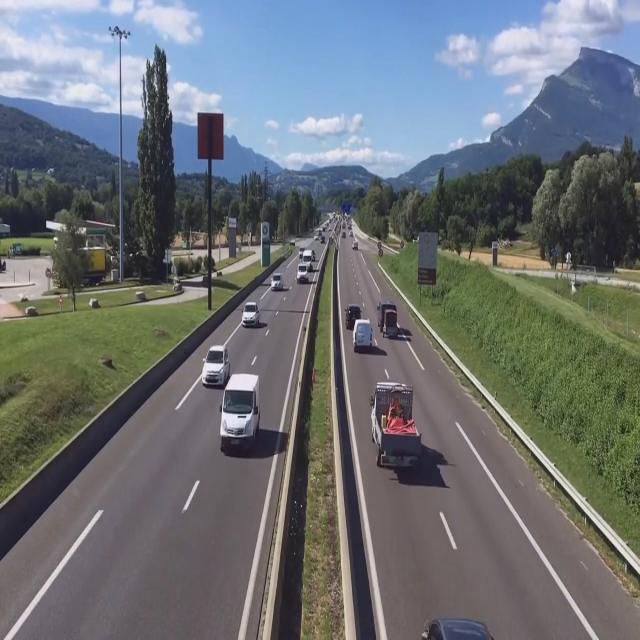car: (217, 374, 259, 458), (418, 618, 505, 640), (201, 346, 230, 389), (352, 320, 378, 357), (376, 304, 398, 342), (241, 302, 261, 330), (344, 301, 362, 329), (272, 273, 287, 293), (296, 264, 308, 284)
truck: (373, 381, 424, 474)
